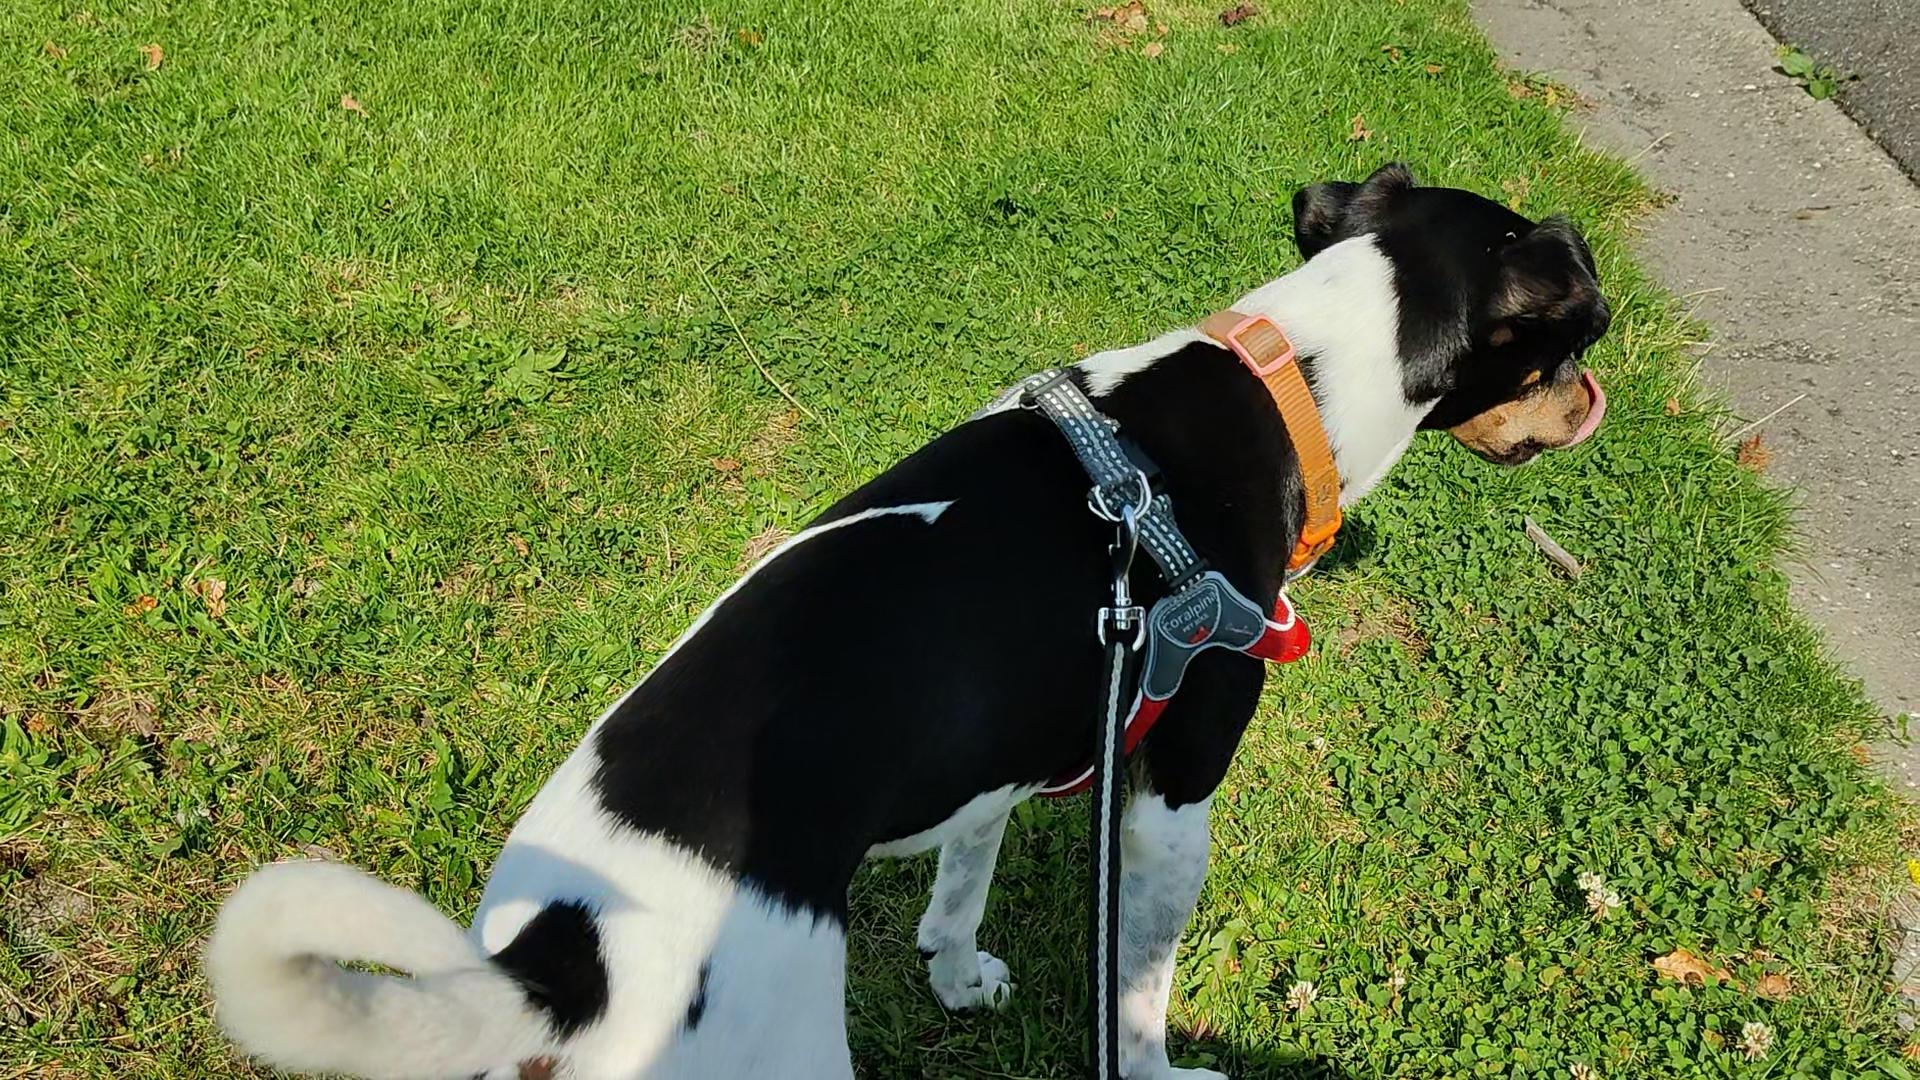Dog: (196, 154, 1619, 1079)
